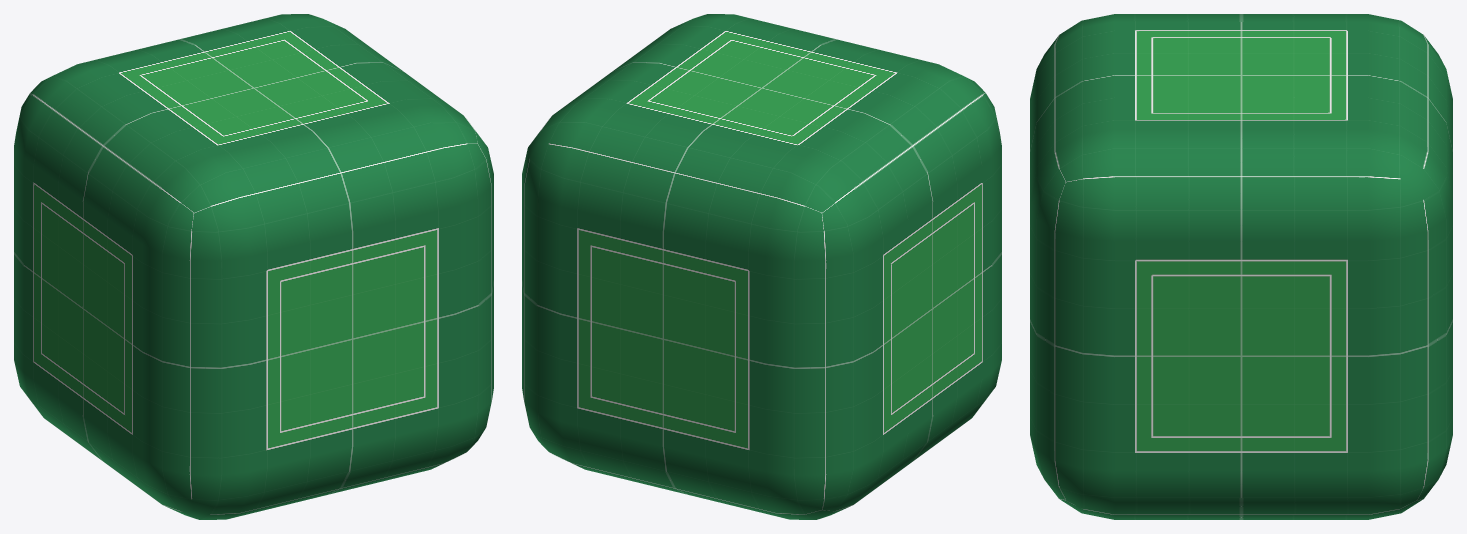
Rendered from cube_test_green_04.gltf.
The picture shows the model from 3 angles, left to right: view 1: azimuth 30°, elevation 25°; view 2: azimuth 150°, elevation 25°; view 3: azimuth 270°, elevation 25°; orthographic projection. The views are drawn at different scales.
Visible parts, largest first — view 1: Cube.001; view 2: Cube.001; view 3: Cube.001.
Boxes of the visible parts, x1=… form: Cube.001: x1=14, y1=14, x2=493, y2=519; Cube.001: x1=522, y1=14, x2=1001, y2=519; Cube.001: x1=1030, y1=14, x2=1452, y2=519.
Bounding box in the file's own units: 2 × 2 × 2.
1 material, 1 textured.
